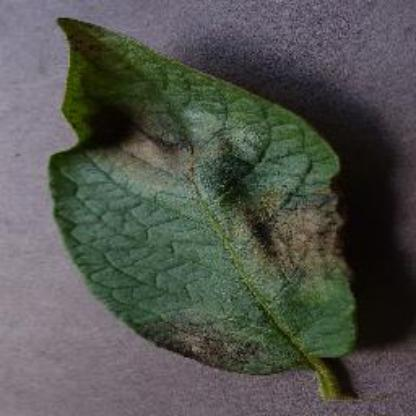Late-Blight: (30, 11, 376, 406)
